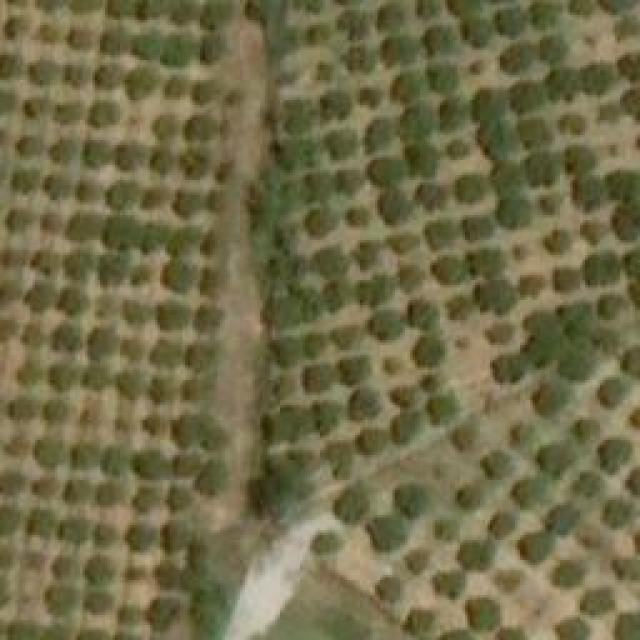Tree: (249, 449, 315, 520), (194, 577, 240, 639), (525, 307, 565, 364), (560, 295, 596, 339), (557, 340, 595, 380), (470, 280, 515, 313), (365, 515, 405, 550), (485, 353, 525, 386), (453, 540, 496, 570), (260, 413, 297, 447), (198, 462, 231, 500), (570, 180, 608, 213), (532, 383, 570, 416), (395, 480, 430, 515), (155, 298, 188, 333), (278, 103, 313, 136), (395, 105, 428, 140), (480, 123, 513, 158), (508, 83, 543, 116), (498, 198, 533, 231), (308, 400, 341, 435), (430, 570, 465, 603), (175, 145, 205, 183), (248, 0, 288, 28), (185, 113, 218, 146), (585, 253, 618, 286), (595, 438, 628, 471), (335, 488, 368, 521), (63, 213, 98, 243), (23, 278, 53, 313), (160, 263, 195, 293), (390, 75, 425, 105), (498, 43, 533, 73), (580, 63, 615, 93), (383, 190, 418, 220), (430, 255, 465, 285), (610, 205, 640, 240), (368, 310, 403, 340), (538, 443, 568, 478), (465, 598, 500, 628), (88, 100, 121, 130), (98, 23, 128, 56), (133, 30, 163, 63), (108, 180, 141, 210), (48, 320, 78, 353), (95, 255, 128, 285), (193, 300, 223, 333), (188, 340, 221, 370), (168, 415, 198, 448), (133, 450, 166, 480), (70, 440, 100, 473), (548, 70, 581, 100), (560, 145, 593, 175), (607, 170, 640, 200), (545, 505, 578, 535), (390, 415, 423, 445), (513, 478, 546, 508), (125, 522, 160, 550), (315, 245, 343, 280), (372, 0, 402, 32), (8, 167, 41, 195), (170, 190, 203, 218), (85, 555, 118, 583), (343, 47, 376, 75), (358, 277, 391, 305), (468, 247, 501, 275), (338, 357, 371, 385), (28, 248, 58, 278), (85, 325, 115, 355), (150, 338, 180, 368), (338, 10, 368, 40), (523, 155, 553, 185), (600, 498, 630, 528), (580, 588, 610, 618), (405, 610, 435, 640), (438, 100, 463, 135), (127, 68, 155, 98), (200, 35, 228, 65), (105, 217, 135, 245), (148, 375, 178, 403), (63, 517, 93, 545), (385, 38, 413, 68), (457, 15, 485, 45), (470, 90, 500, 118), (358, 122, 388, 150), (327, 128, 355, 158), (408, 147, 438, 175), (455, 172, 485, 200), (405, 300, 435, 328), (417, 338, 445, 368), (347, 393, 375, 423), (518, 535, 548, 563), (163, 520, 188, 553), (370, 158, 403, 183), (425, 398, 458, 423), (453, 418, 478, 451), (617, 85, 640, 120), (60, 60, 88, 88), (80, 140, 108, 168), (200, 0, 228, 28), (57, 287, 85, 315), (122, 297, 150, 325), (45, 397, 73, 425), (45, 587, 73, 615), (150, 600, 178, 628), (335, 167, 363, 195), (395, 265, 423, 293), (425, 220, 453, 248), (572, 470, 600, 498), (612, 555, 640, 583), (302, 365, 330, 393), (0, 13, 25, 43), (98, 63, 128, 88), (165, 35, 190, 65), (43, 363, 73, 388), (30, 508, 55, 538), (323, 445, 353, 470), (28, 57, 53, 85), (68, 20, 93, 48), (47, 140, 75, 165), (150, 112, 175, 140), (148, 147, 173, 175), (113, 142, 138, 170), (45, 172, 70, 200), (138, 222, 163, 250), (200, 265, 225, 293), (117, 370, 145, 395), (180, 378, 208, 403), (10, 395, 35, 423), (60, 480, 88, 505), (430, 65, 455, 93), (532, 3, 560, 28), (300, 175, 328, 200), (537, 35, 565, 60), (520, 117, 545, 145), (305, 210, 333, 235), (615, 52, 640, 80), (615, 612, 640, 640), (355, 430, 383, 455), (455, 482, 480, 510), (38, 435, 61, 465), (113, 605, 143, 628), (558, 113, 588, 136), (343, 205, 373, 228), (418, 185, 448, 208), (308, 535, 338, 558), (0, 467, 22, 497), (203, 415, 223, 448), (607, 20, 640, 40), (553, 565, 586, 585), (0, 245, 28, 268), (120, 335, 143, 363), (82, 365, 110, 388), (77, 405, 105, 428), (130, 490, 158, 513), (172, 455, 200, 478), (350, 245, 378, 268), (462, 218, 490, 241), (372, 578, 400, 601), (5, 208, 30, 233), (63, 253, 88, 278), (95, 483, 120, 508), (155, 560, 180, 585), (500, 5, 525, 30), (320, 288, 345, 313), (493, 165, 518, 190), (543, 230, 568, 255), (518, 273, 543, 298), (270, 343, 295, 368), (495, 568, 520, 593), (555, 617, 582, 640), (135, 0, 165, 20), (0, 50, 22, 77), (33, 20, 58, 43), (15, 133, 40, 156), (75, 178, 100, 201), (13, 363, 38, 386), (53, 558, 78, 581), (85, 590, 110, 613), (320, 90, 343, 115), (443, 295, 468, 318), (380, 353, 405, 376), (435, 518, 460, 541), (403, 548, 426, 573), (505, 425, 530, 448), (190, 83, 218, 103), (10, 620, 38, 640), (620, 347, 640, 375), (170, 0, 195, 22), (107, 445, 125, 475), (163, 73, 186, 96), (168, 228, 191, 251), (358, 88, 381, 111), (600, 380, 623, 403), (330, 325, 353, 348), (300, 333, 323, 356), (490, 513, 513, 536), (600, 0, 635, 15), (625, 468, 640, 503), (580, 33, 603, 55), (387, 387, 415, 405), (105, 0, 130, 20), (28, 478, 53, 498), (480, 453, 505, 473), (450, 0, 483, 15), (38, 213, 61, 233), (95, 295, 115, 318), (5, 435, 25, 458), (23, 548, 46, 568), (95, 523, 115, 546), (415, 0, 438, 20), (308, 25, 331, 45), (428, 30, 448, 53), (488, 323, 511, 343), (73, 0, 103, 15), (200, 230, 218, 255), (0, 280, 15, 308), (567, 0, 595, 15), (53, 105, 76, 123), (212, 163, 230, 186), (0, 545, 18, 568), (555, 268, 573, 291), (580, 222, 603, 240), (573, 420, 596, 438), (23, 325, 43, 345), (143, 415, 163, 435), (313, 63, 333, 83), (603, 295, 623, 315), (0, 90, 15, 115), (23, 97, 43, 115), (143, 190, 163, 208), (130, 267, 150, 285), (127, 565, 145, 585), (167, 490, 185, 510), (538, 195, 558, 213), (595, 105, 615, 123), (0, 508, 15, 531), (445, 143, 468, 158), (45, 625, 65, 640), (393, 235, 413, 250), (418, 375, 438, 390), (0, 320, 15, 338), (467, 60, 485, 75), (513, 245, 528, 260)
